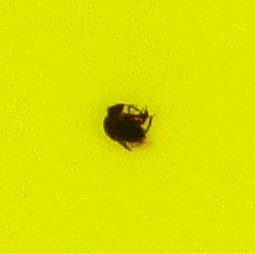Hymenoptera: (100, 100, 155, 153)
